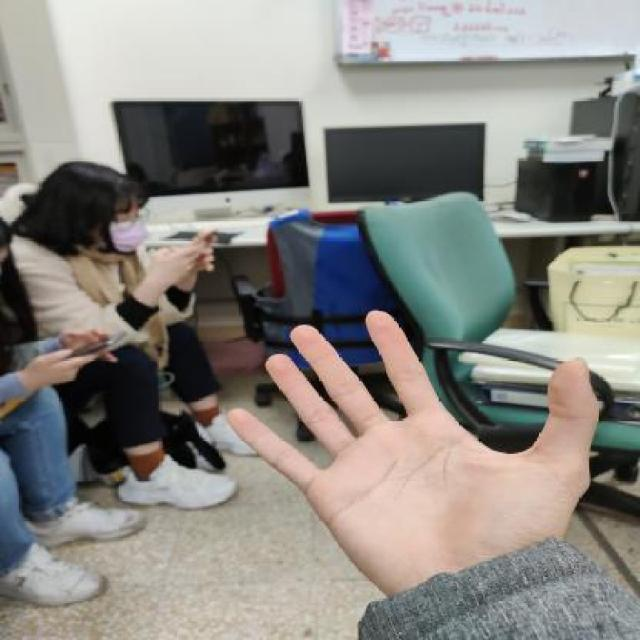no_glove: (200, 298, 600, 619)
